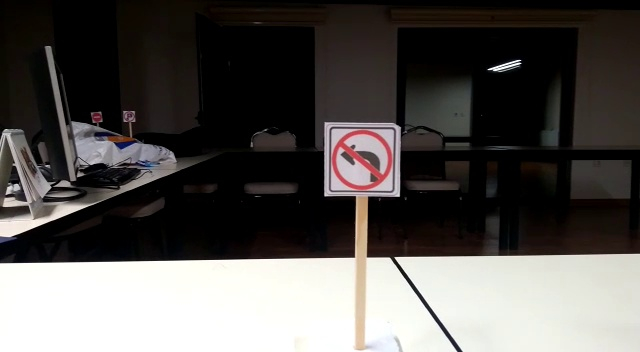sola_donulmez: (329, 127, 398, 195)
